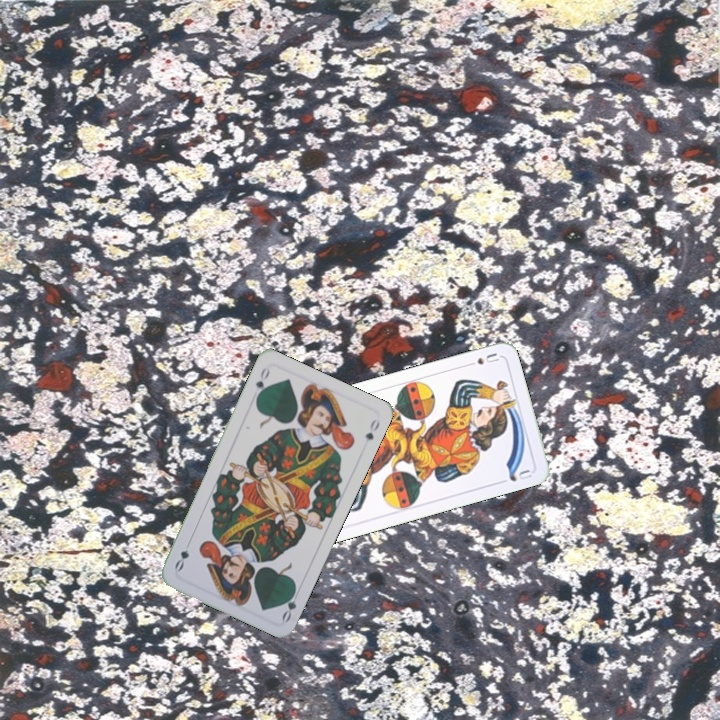GO: (278, 584, 299, 624), (251, 363, 272, 402)
SU: (462, 349, 501, 369)
